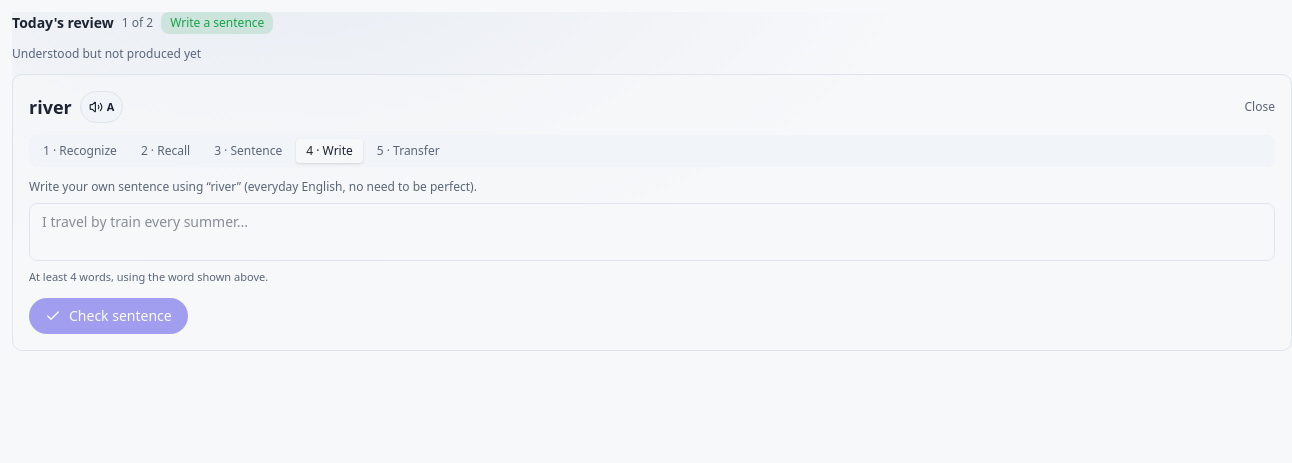
ReviewToday · resumen y sesión encadenada (V3.85.0) › encadena: al superar el peldaño ofrece «Siguiente palabra» y avanza a la última
Type "I sat by the river last summer." into the text box named "Your sentence".
click(652, 232); type("I sat by the river last summer.")  # box [29, 203, 1275, 261]
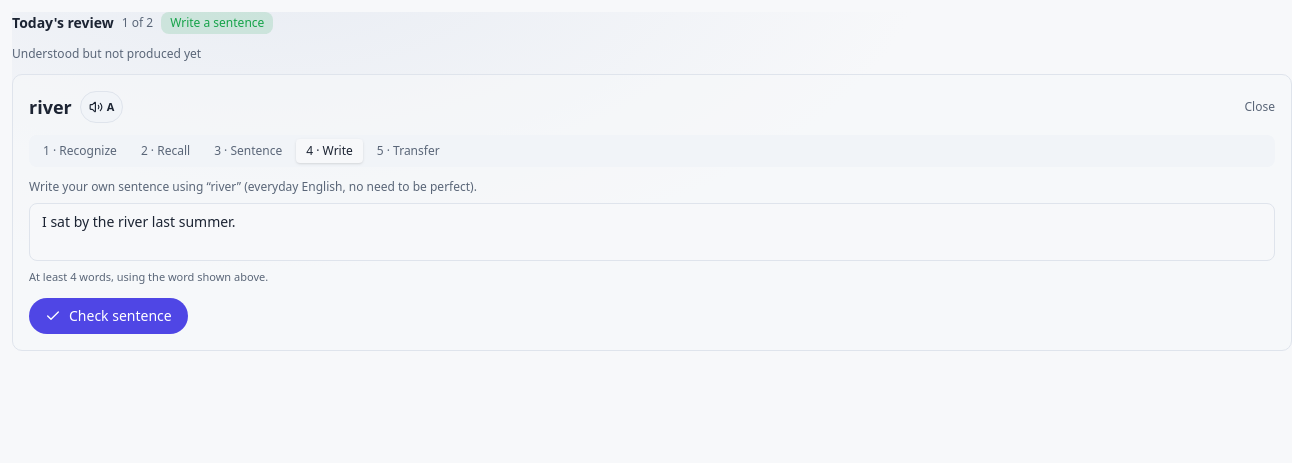
Click the button "Check sentence".
click(108, 316)  # box [29, 298, 188, 334]
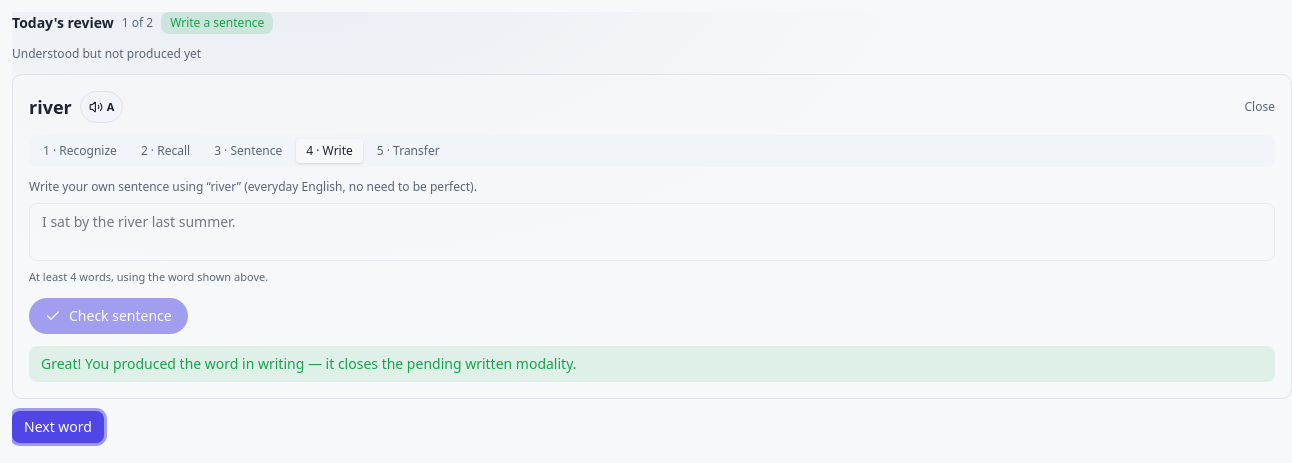
expect the button "Next word" is shown: met
Click the button "Next word".
click(58, 426)  # box [12, 410, 104, 442]
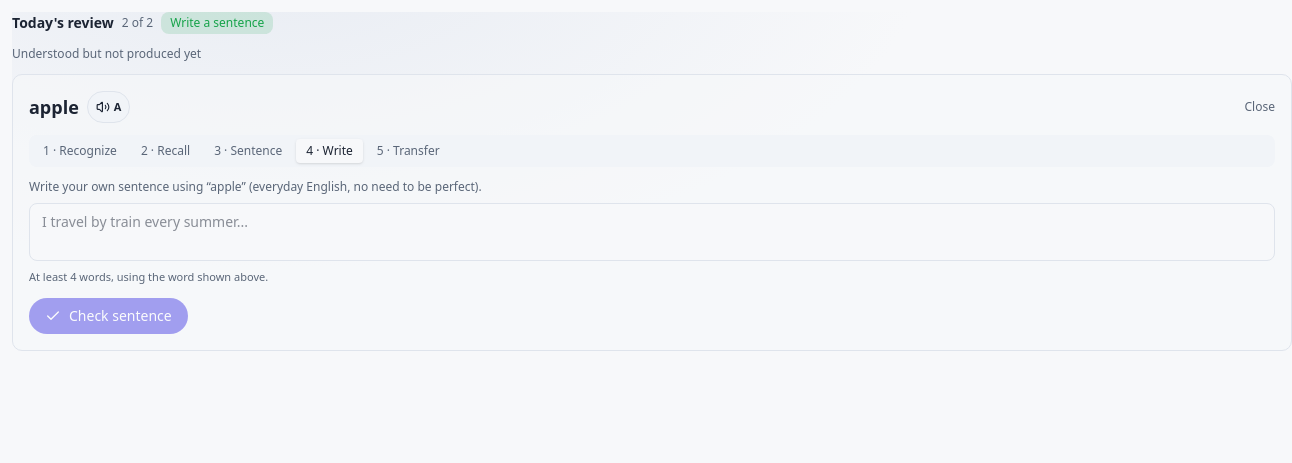
expect the text "2 of 2" is shown: met, box [122, 15, 153, 31]
expect the text "Write your own sentence using “apple”" is shown: met, box [29, 178, 482, 195]
